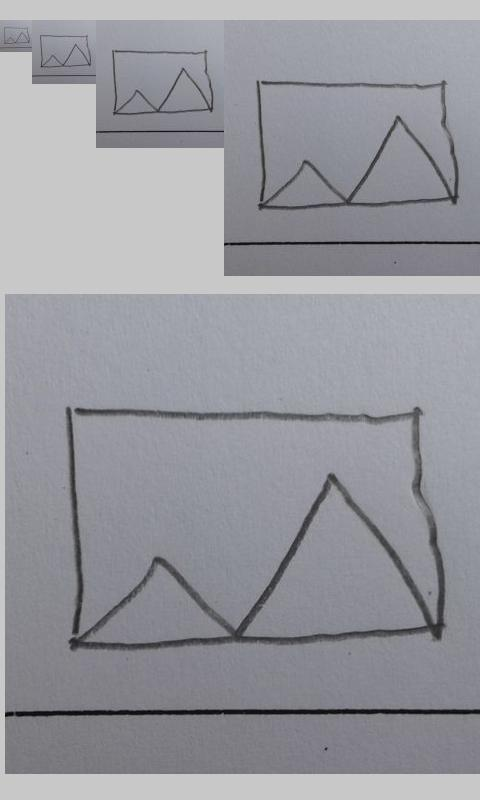image_view: (63, 402, 447, 650), (256, 79, 459, 210), (112, 49, 215, 116), (39, 34, 92, 68), (3, 26, 30, 44)
